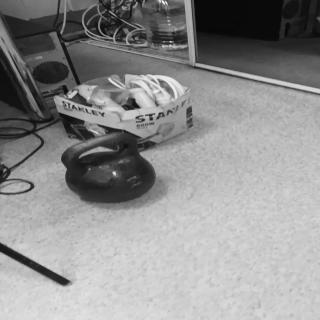girya: (61, 134, 157, 205)
